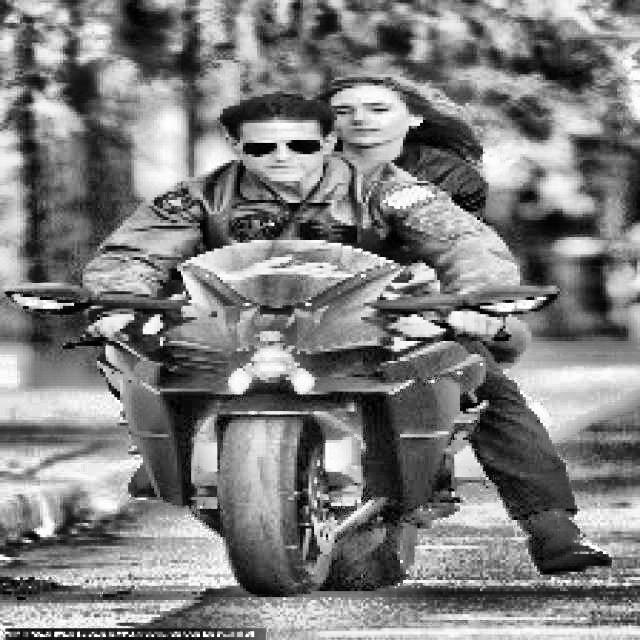motorcycle: (0, 256, 603, 598)
